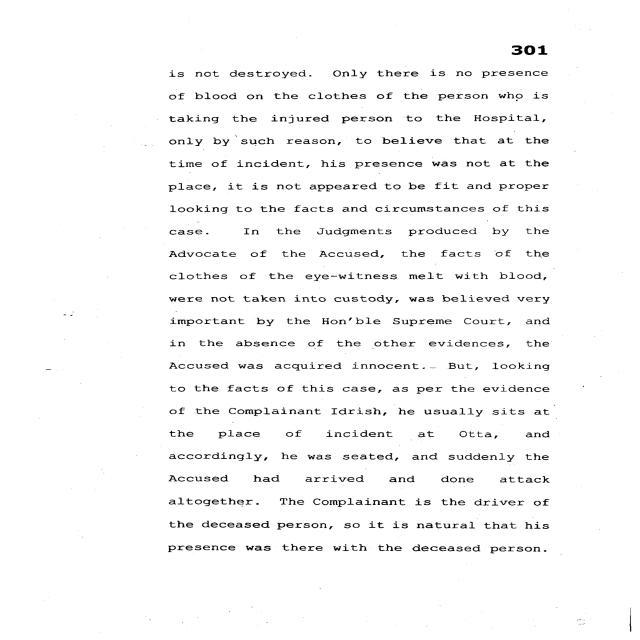page-number: (422, 0, 636, 60)
